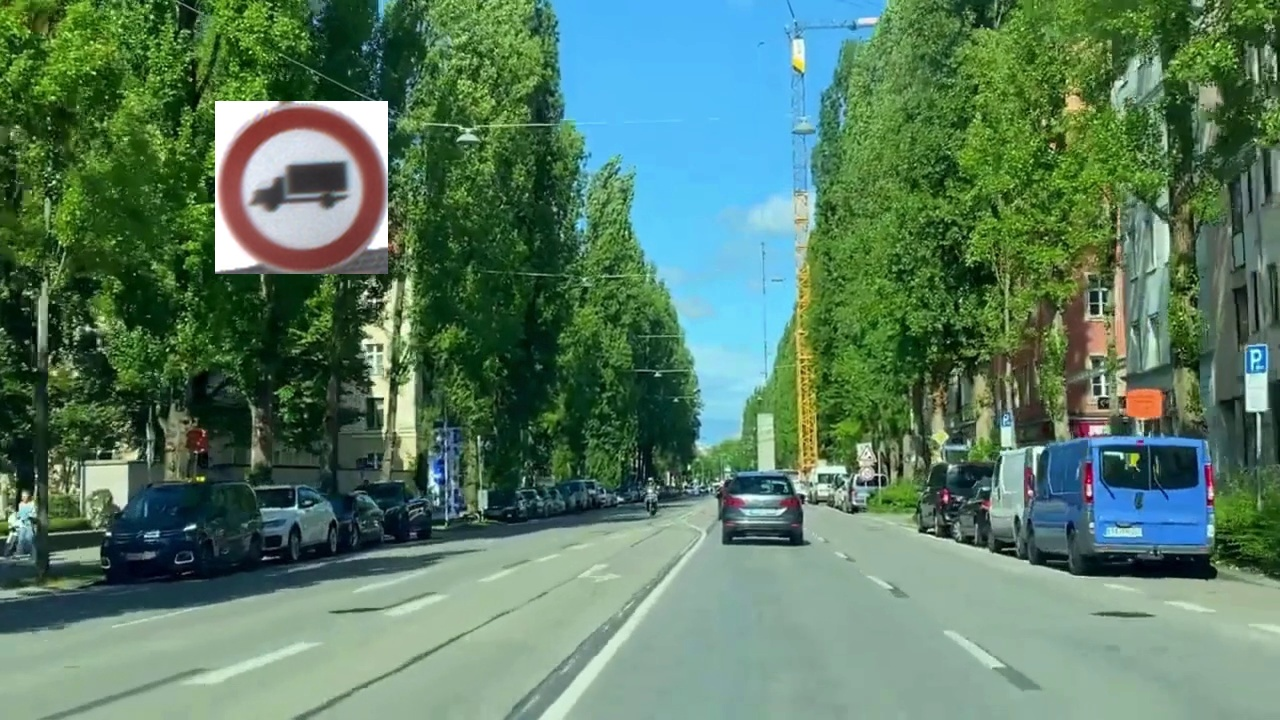Veh >3.5t prohib: (215, 101, 388, 274)
